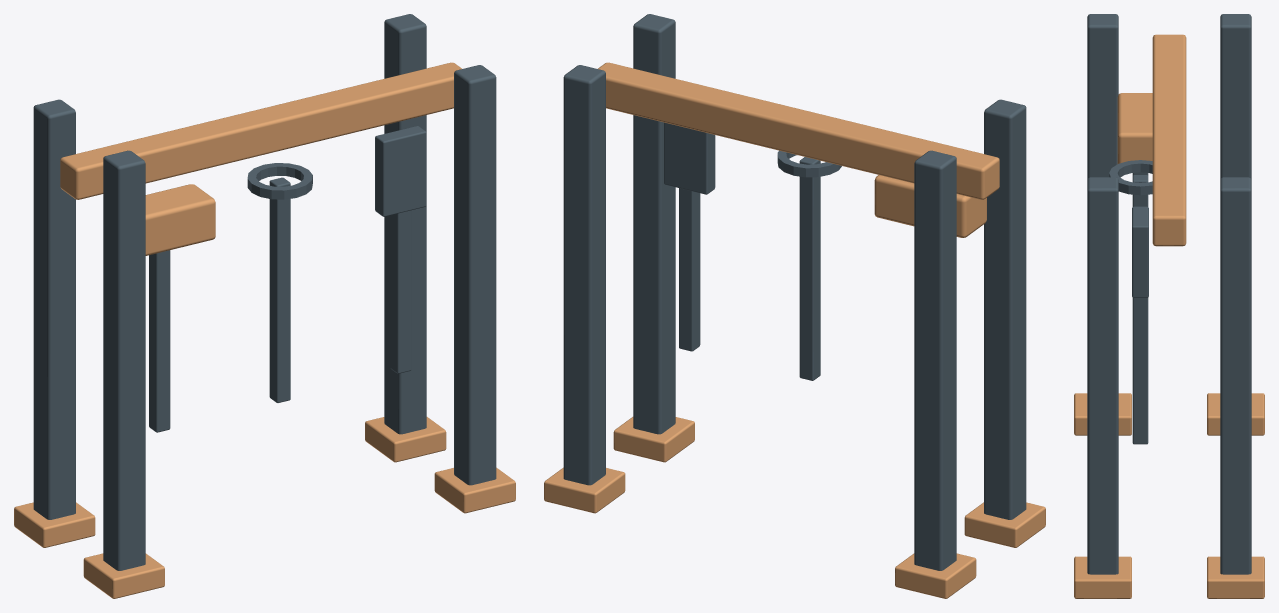
Rendered from dwarven-runeforge-dungeon-dwarven-runeforge-dungeon-to-a38bb5bb__28608.glb.
3 renders of one model, left to right at view 1: azimuth 30°, elevation 25°; view 2: azimuth 150°, elevation 25°; view 3: azimuth 270°, elevation 25°, orthographic. The views are drawn at different scales.
Visible parts, largest first — view 1: dwarven-runeforge-dungeon-tool-rack; view 2: dwarven-runeforge-dungeon-tool-rack; view 3: dwarven-runeforge-dungeon-tool-rack.
Boxes of the visible parts, bbox=[...] form: dwarven-runeforge-dungeon-tool-rack: bbox=[14, 14, 515, 598]; dwarven-runeforge-dungeon-tool-rack: bbox=[544, 14, 1045, 598]; dwarven-runeforge-dungeon-tool-rack: bbox=[1074, 14, 1264, 598].
Size of the model in its own units: 1.84 by 1.85 by 0.79.
